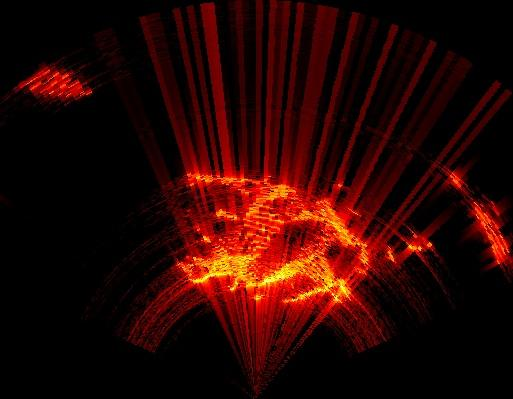shipwreck: (186, 175, 420, 298), (28, 74, 83, 94)
